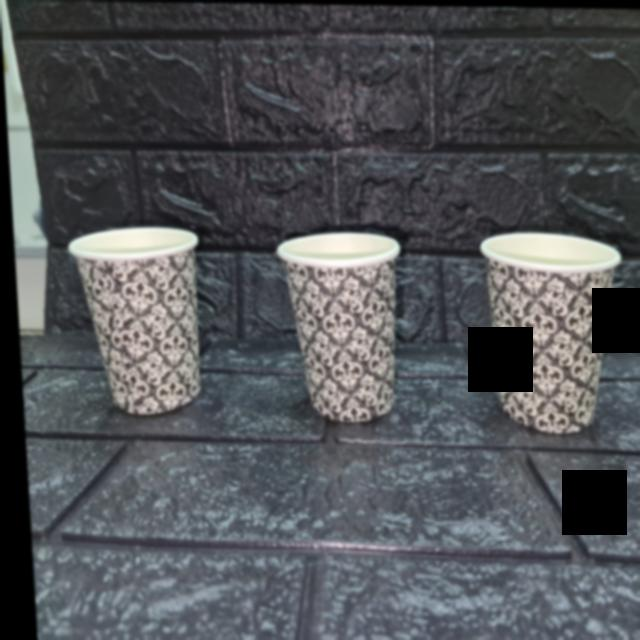cups: (60, 227, 225, 421), (472, 223, 618, 431), (269, 235, 414, 423)
